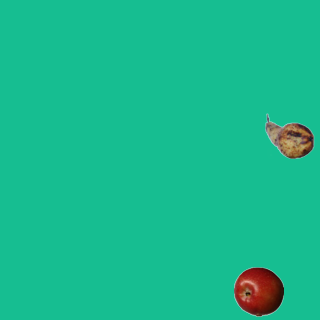Apple Braeburn: (233, 266, 283, 316)
Pear Abate: (264, 111, 314, 161)
